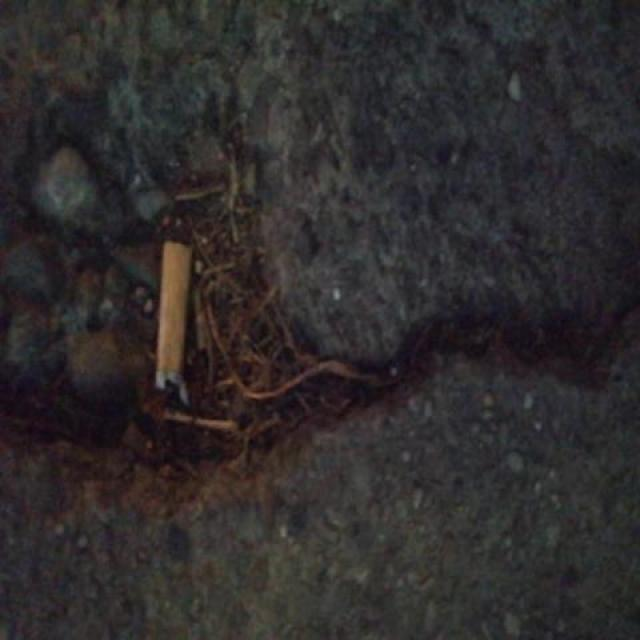non-organic waste: (151, 233, 193, 410)
